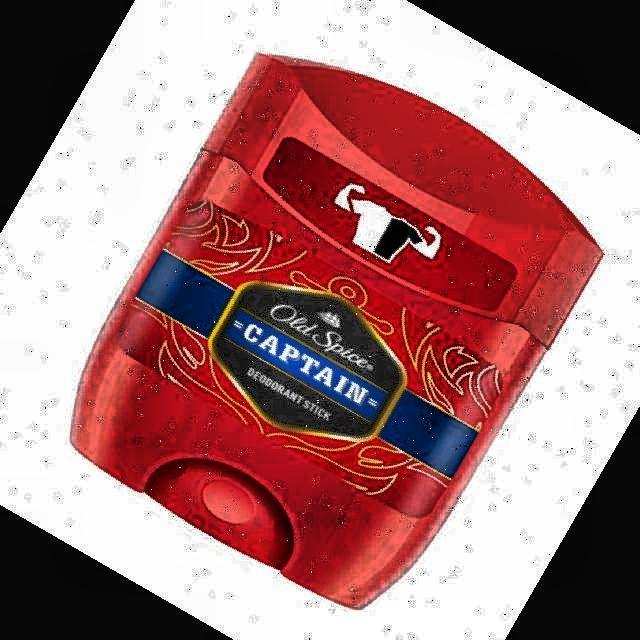plastic: (71, 54, 602, 607)
